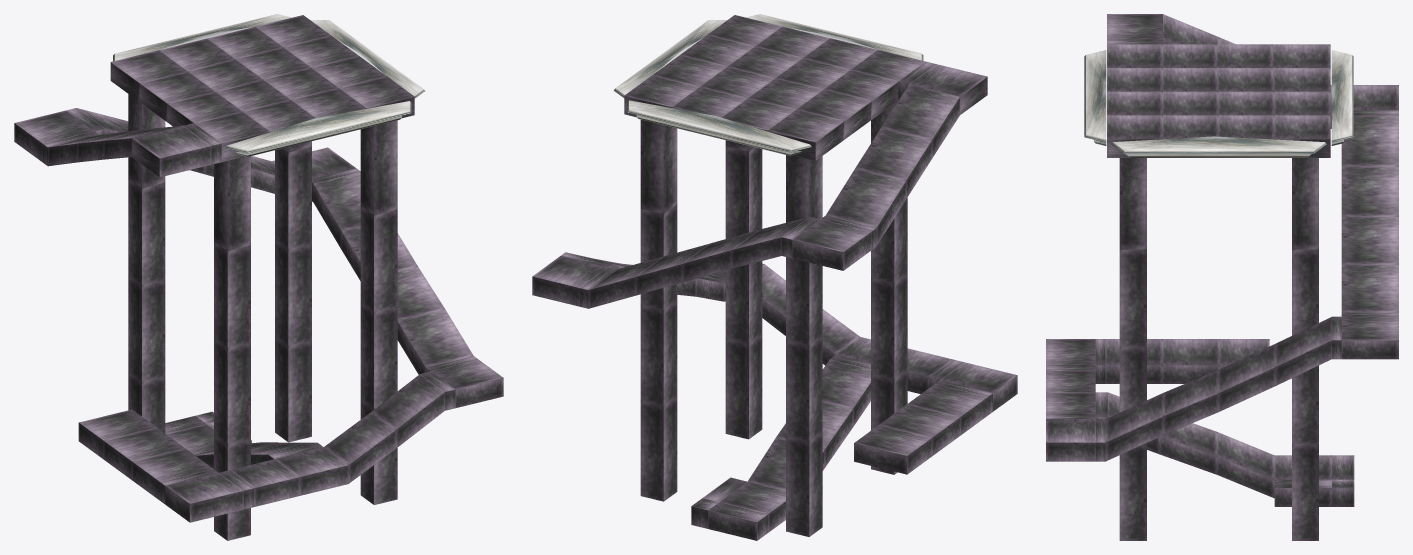
The model's file is def_tower_20m.DAE.
3 views of the same model, side by side, from view 1: azimuth 30°, elevation 25°; view 2: azimuth 150°, elevation 25°; view 3: azimuth 270°, elevation 25° (orthographic).
Parts seen in each view (by area): view 1: Box01; view 2: Box01; view 3: Box01.
Part boxes in pixels (x1=…): Box01: x1=14, y1=14, x2=503, y2=540; Box01: x1=532, y1=14, x2=1017, y2=540; Box01: x1=1046, y1=14, x2=1398, y2=540.
Bounding box in the file's own units: 14.64 × 18.2 × 14.2.
